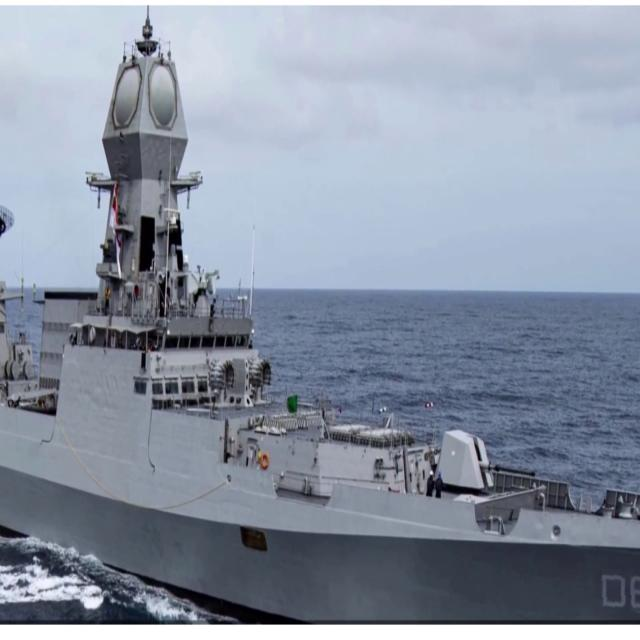OCR: (597, 572, 640, 616)
